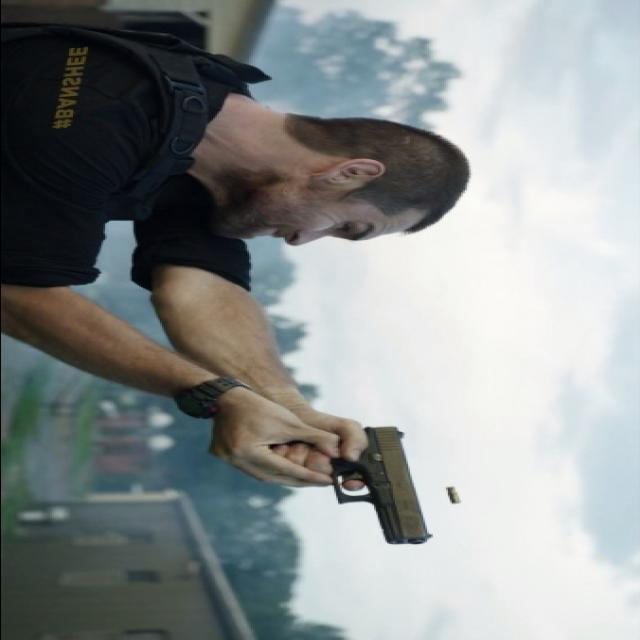weapons: (226, 408, 457, 558)
